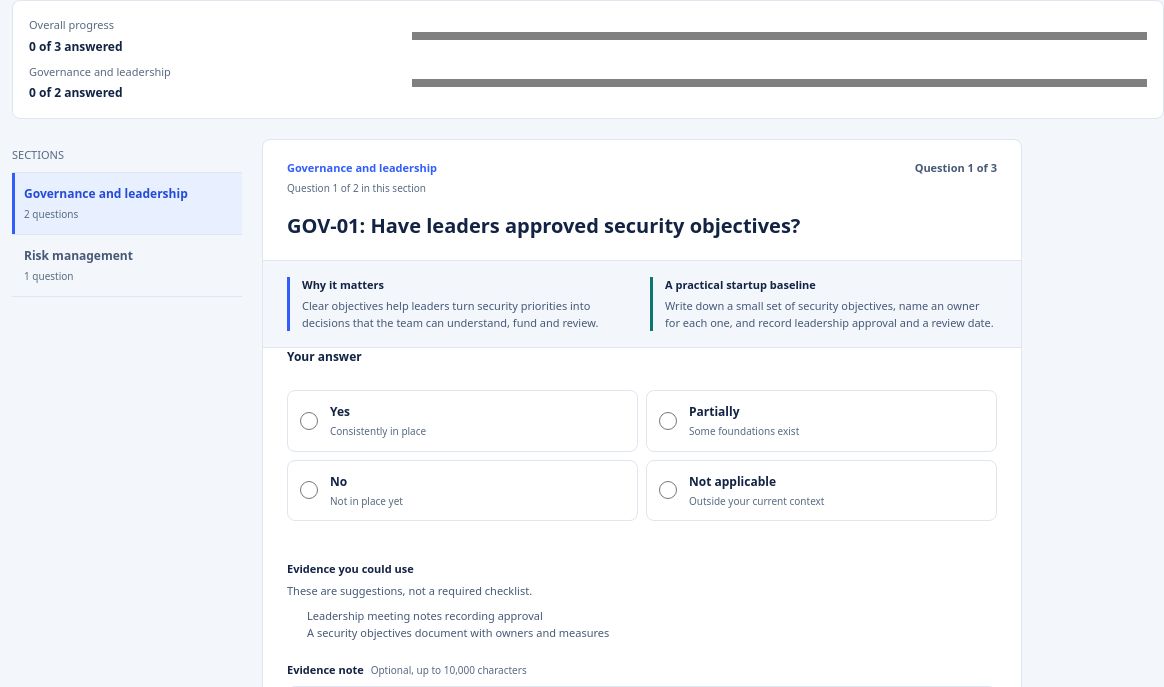
Scenario: AssessmentResponseList guided flow › explains the consequence of choosing Not applicable
Click the radio button labelled "Not applicable": coordinates (668, 490) top-left (659, 481), bottom-right (677, 499)
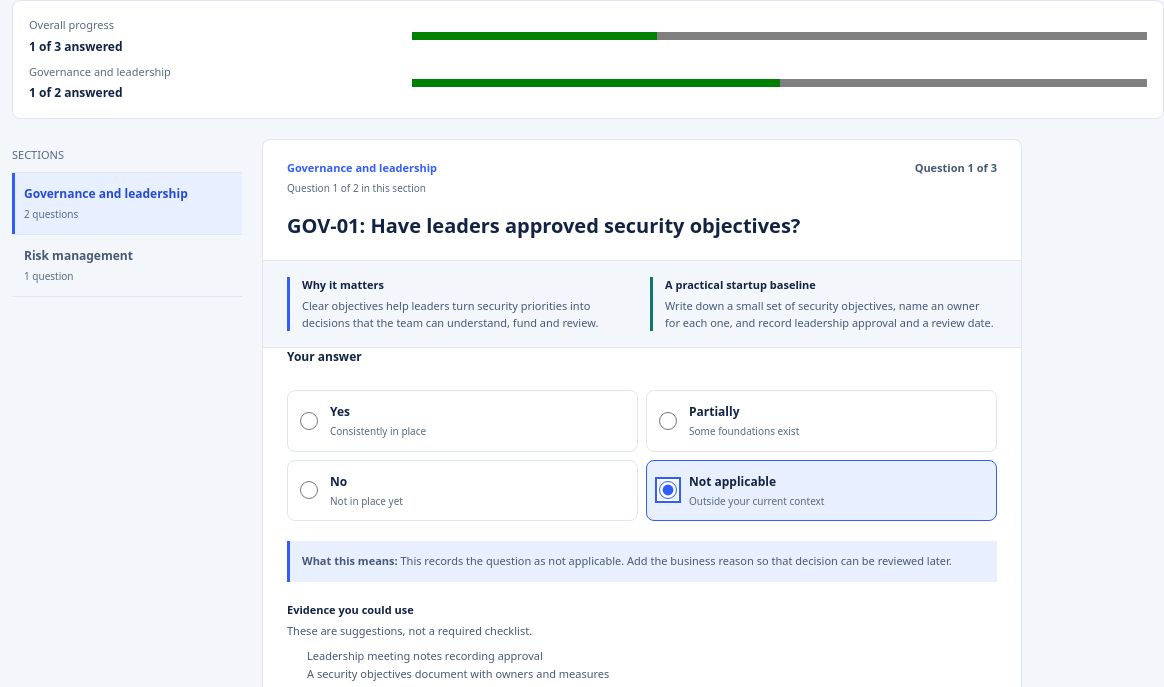
Expected: the heading "GOV-01: Have leaders approved security objectives?" is shown, top-left (287, 212), bottom-right (800, 238)
Now the message named "Answer consequence" shows "reason", box top-left (400, 553), bottom-right (952, 568)
